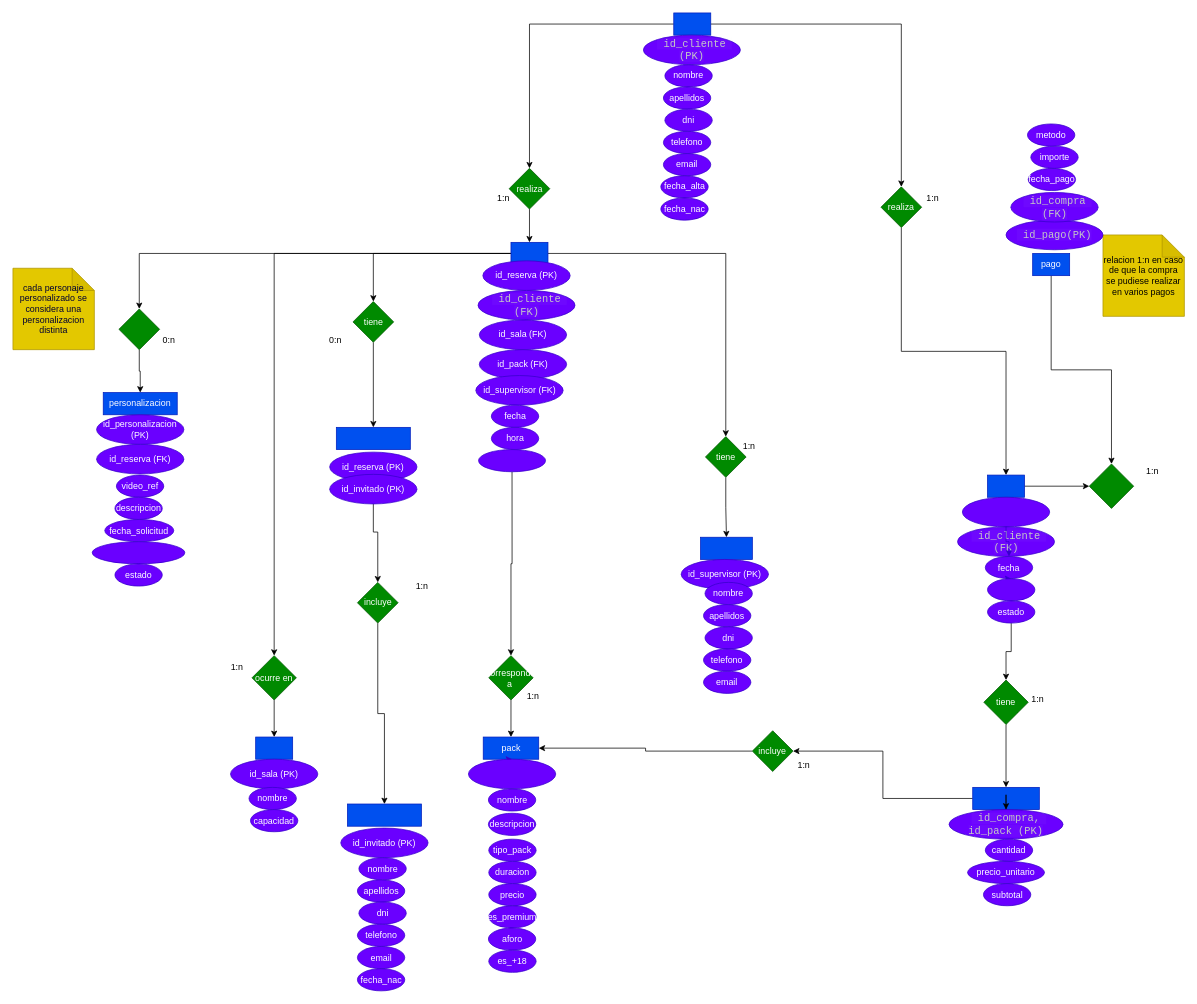
Image size: 1197x1004. Some labels were removed from this diagram. Each missing label, with the centre of its shape:
"cliente" goes at pixel 692 23.
"compra" goes at pixel 1006 485.
"es_confirmado" goes at pixel 512 460.
"fecha_aprobacion" goes at pixel 138 552.
"id_compra (PK)" goes at pixel 1006 512.
"id_pack (PK)" goes at pixel 512 773.
"invitado" goes at pixel 384 814.
"linea_compra" goes at pixel 1005 798.
"mediante" goes at pixel 1111 485.
"puede tener" goes at pixel 139 329.
"reserva" goes at pixel 529 253.
"reserva_invitado" goes at pixel 373 438.
"sala" goes at pixel 274 747.
"supervisor" goes at pixel 726 547.
"total" goes at pixel 1011 589.
